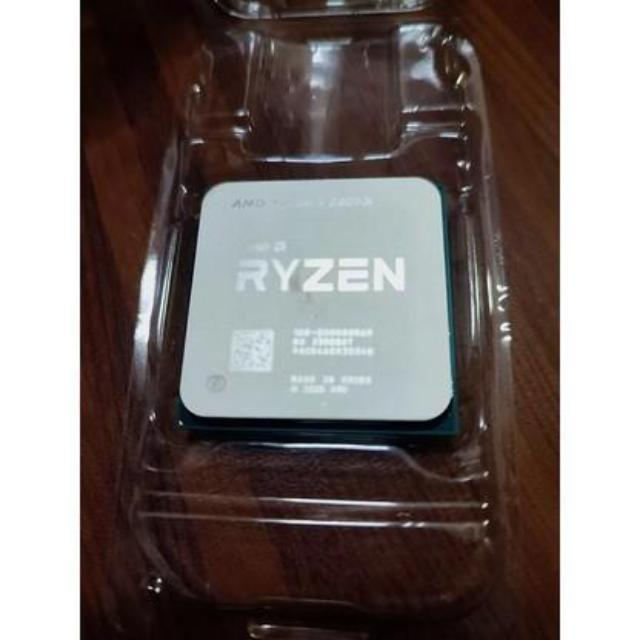CPU: (178, 174, 462, 434)
